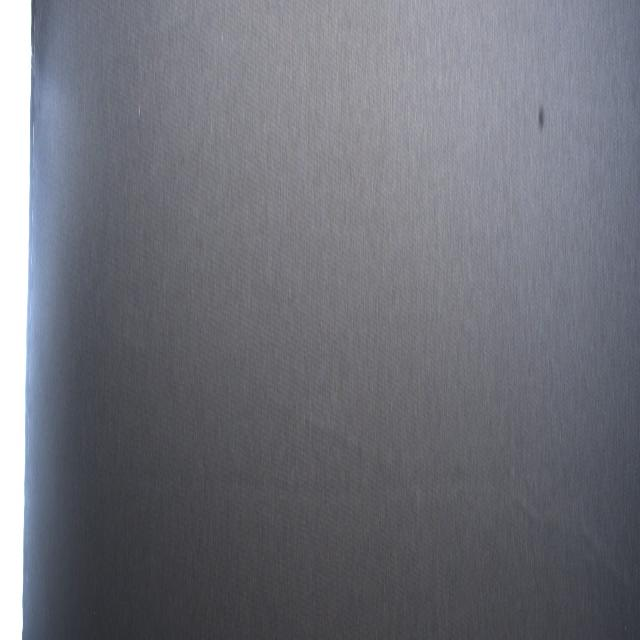crease: (59, 449, 480, 533), (502, 467, 562, 560), (578, 510, 627, 602)
